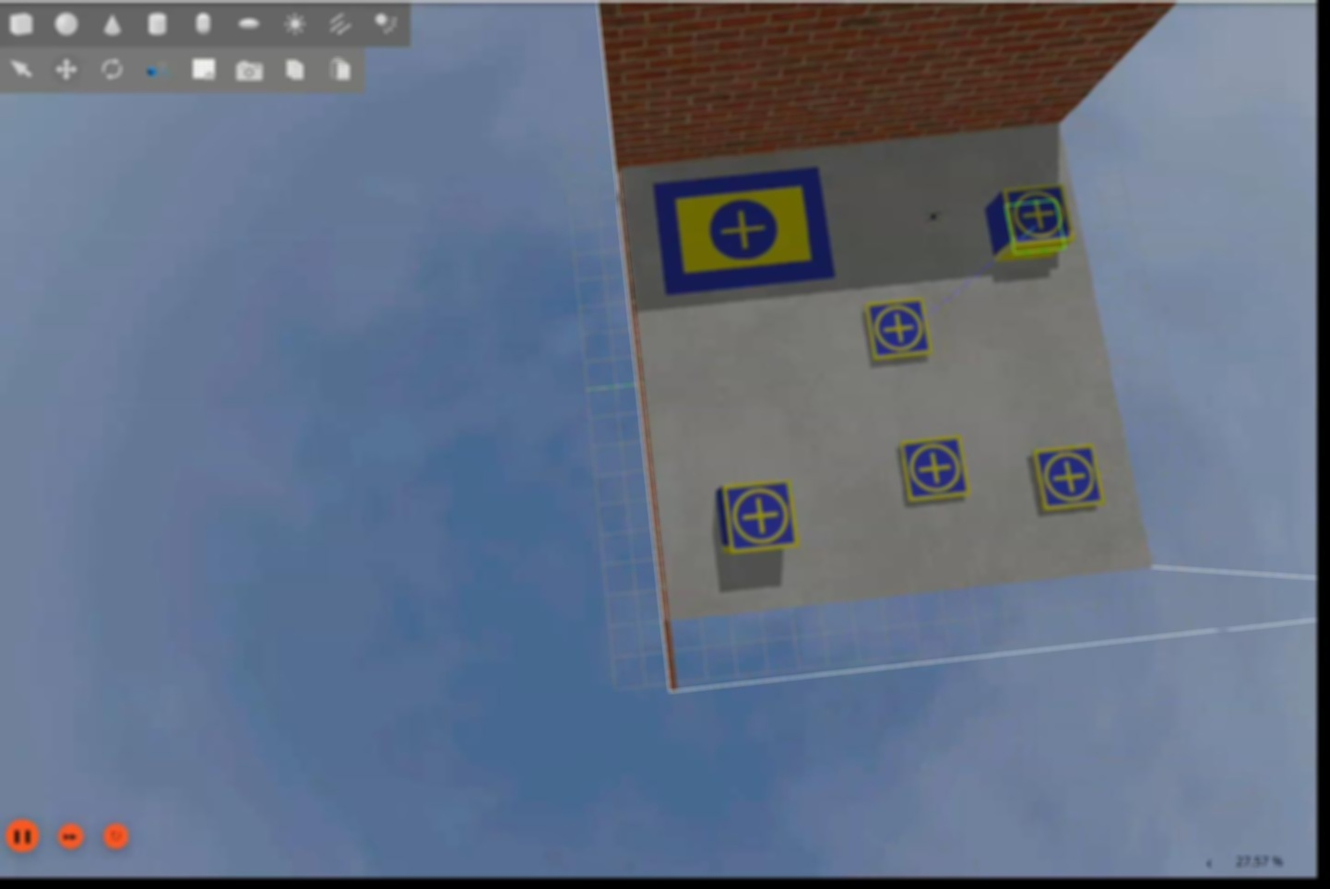large_base: (654, 166, 842, 299)
small_base: (719, 477, 802, 557), (1000, 184, 1078, 251), (1033, 444, 1105, 516), (865, 297, 938, 365), (901, 435, 970, 505)
